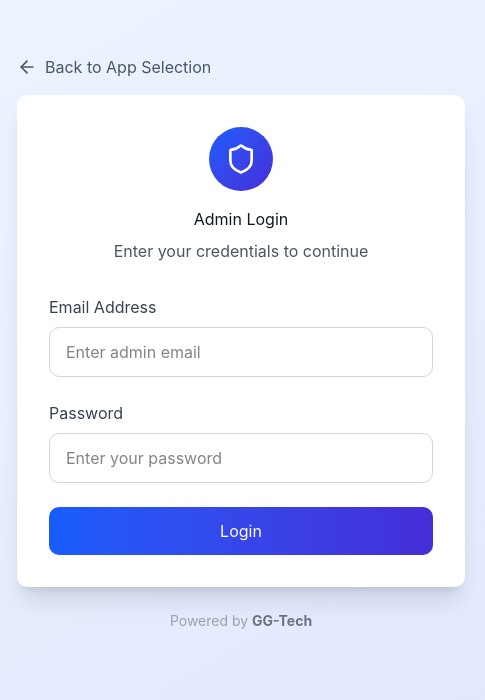
Test case: AdminLoginScreen › wrong credentials › shows an incorrect-credentials error for a valid email with a wrong password
The image size is (485, 700).
In the field labelled "Email Address": [241, 352] box top-left (49, 327), bottom-right (433, 377), type "admin@arka.test"
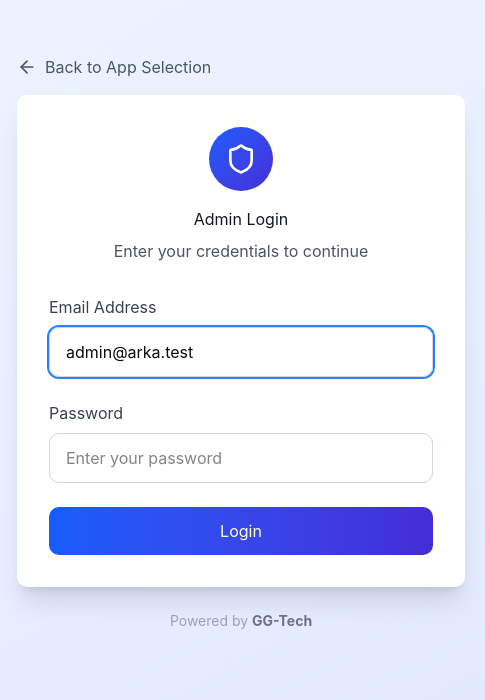
In the password field labelled "Password": [241, 458] box top-left (49, 433), bottom-right (433, 483), type "wrong-password"
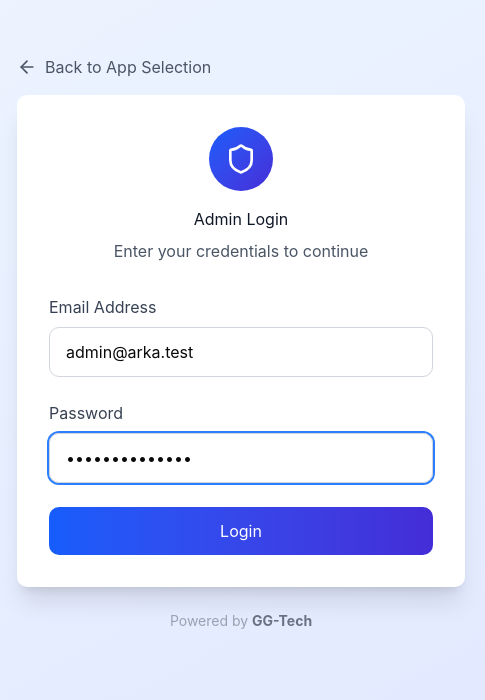
Click the button "Login": [241, 531] box top-left (49, 507), bottom-right (433, 555)
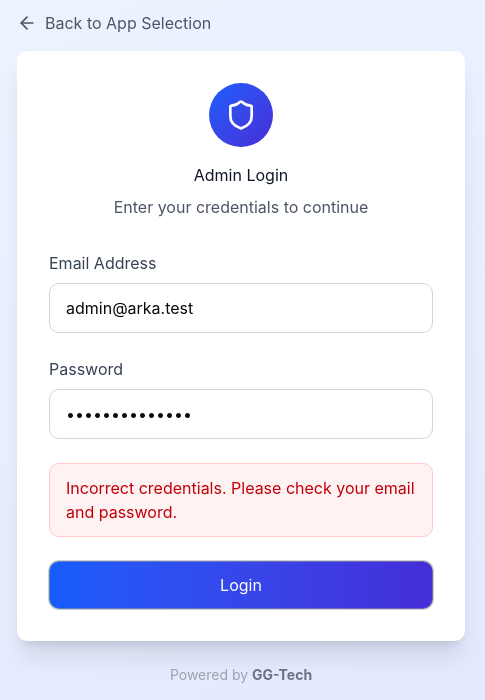
Now the text "Incorrect credentials. Please check your email and password." is shown, box top-left (49, 463), bottom-right (433, 537)
